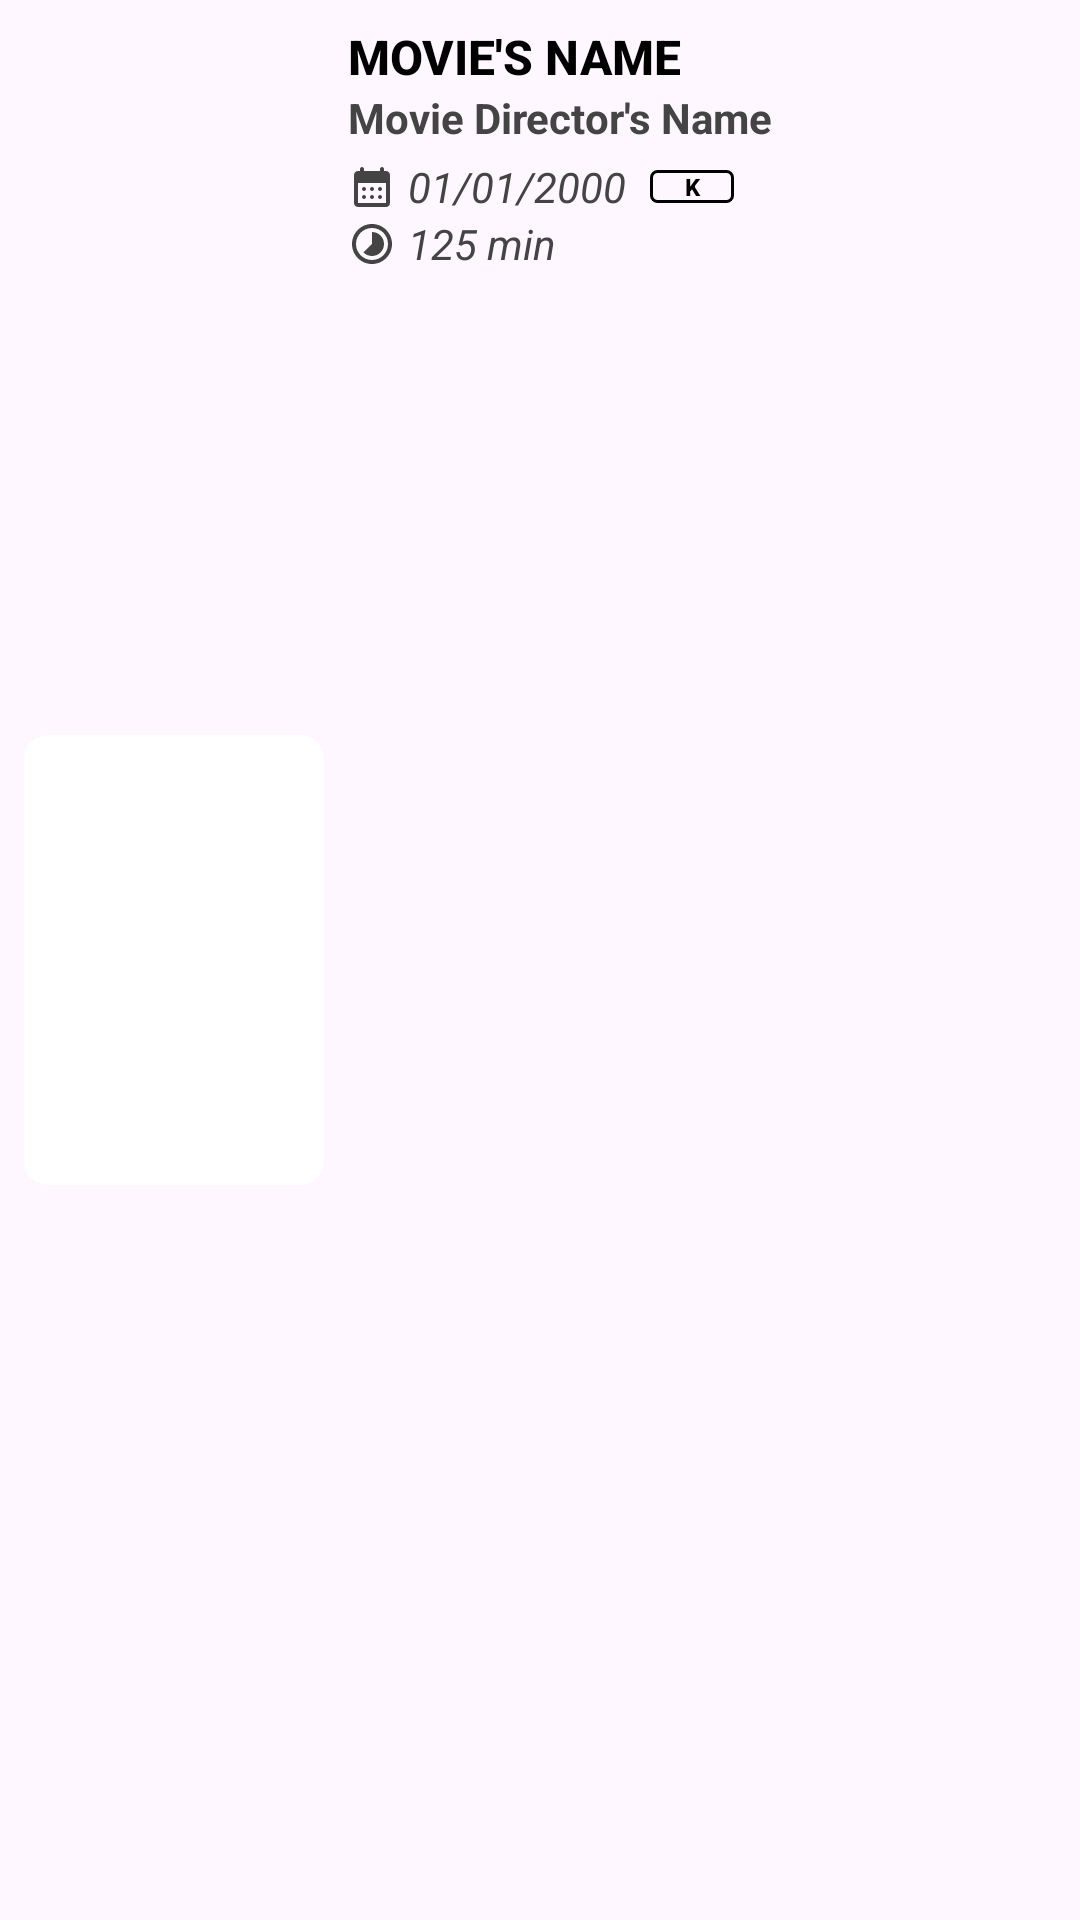

Point at icon controls on the screen. Image size 1080px×1920px, points as (x=x, y=y).
calendar: (x=372, y=187)
time: (x=372, y=244)
